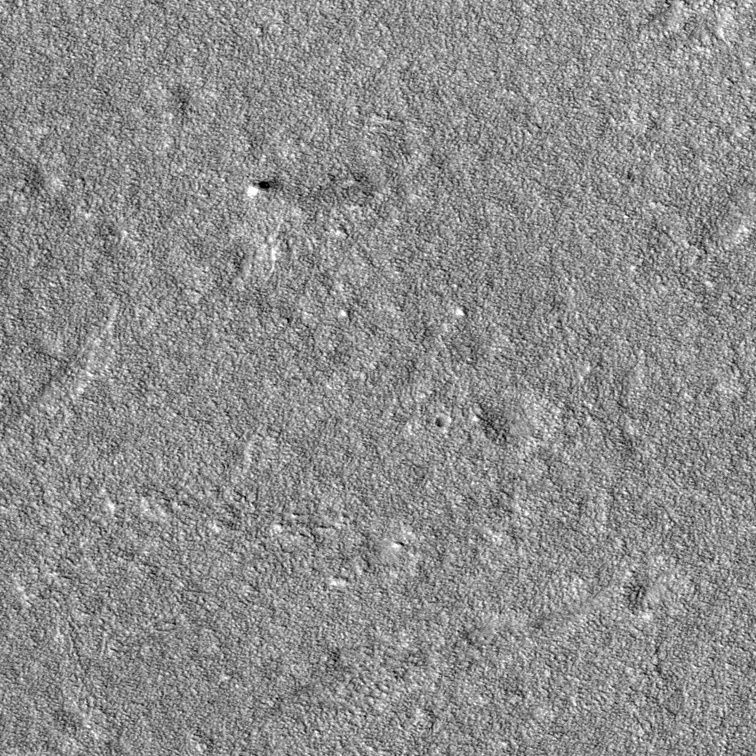dust_devil: (244, 175, 280, 199)
